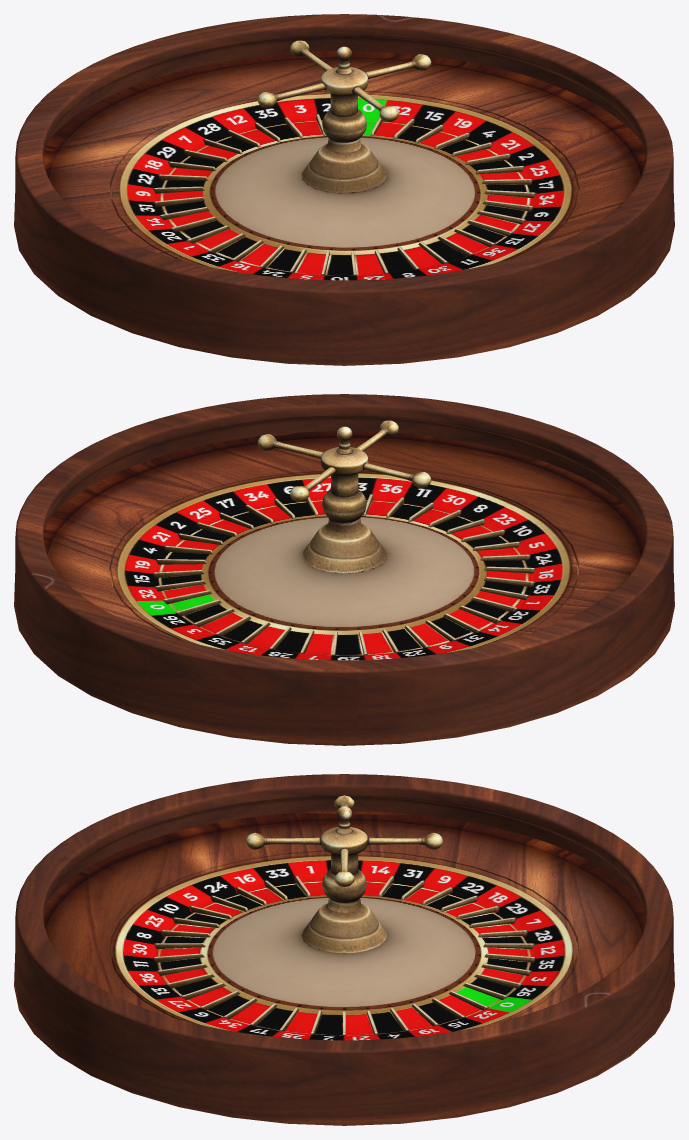
3 views of the same model, one above another, from view 1: azimuth 30°, elevation 25°; view 2: azimuth 150°, elevation 25°; view 3: azimuth 270°, elevation 25° (orthographic).
Parts seen in each view (by area): view 1: Circle5, Circle2, Circle4; view 2: Circle5, Circle2, Circle4; view 3: Circle5, Circle2, Circle4.
Part boxes in pixels (bbox=[...]): Circle5: bbox=[14, 14, 674, 365]; Circle2: bbox=[112, 91, 577, 280]; Circle4: bbox=[43, 51, 645, 258]; Circle5: bbox=[14, 394, 674, 745]; Circle2: bbox=[111, 471, 576, 660]; Circle4: bbox=[43, 431, 645, 638]; Circle5: bbox=[14, 774, 674, 1125]; Circle2: bbox=[111, 851, 577, 1040]; Circle4: bbox=[43, 811, 645, 1018].
Size of the model in its own units: 246 by 73.48 by 246.
Materials: 1 (1 with a texture image).
